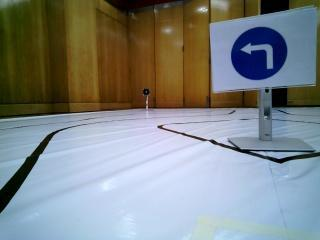left: (218, 26, 294, 78)
